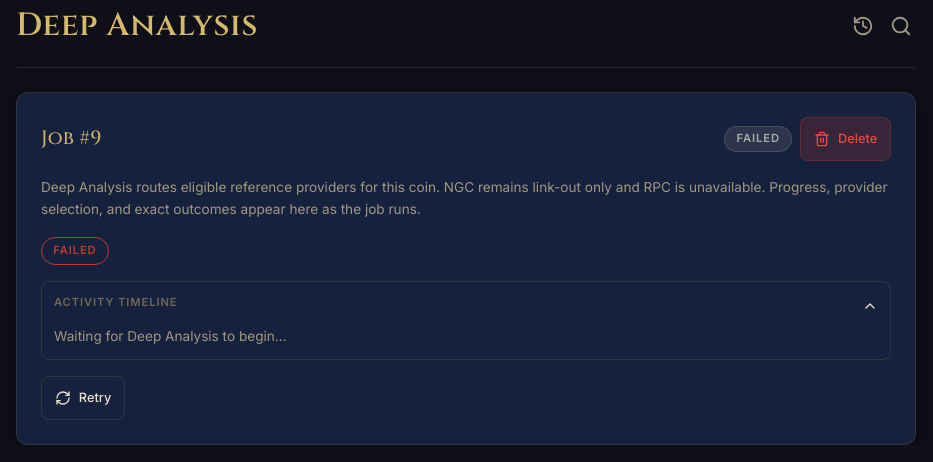
DeepAnalysisPage › surfaces an accessible error and does not navigate when retry fails
The width and height of the screenshot is (933, 462).
Click the button with aria-label "Retry Deep Analysis" at {"x": 83, "y": 398}, box [41,376,125,420]
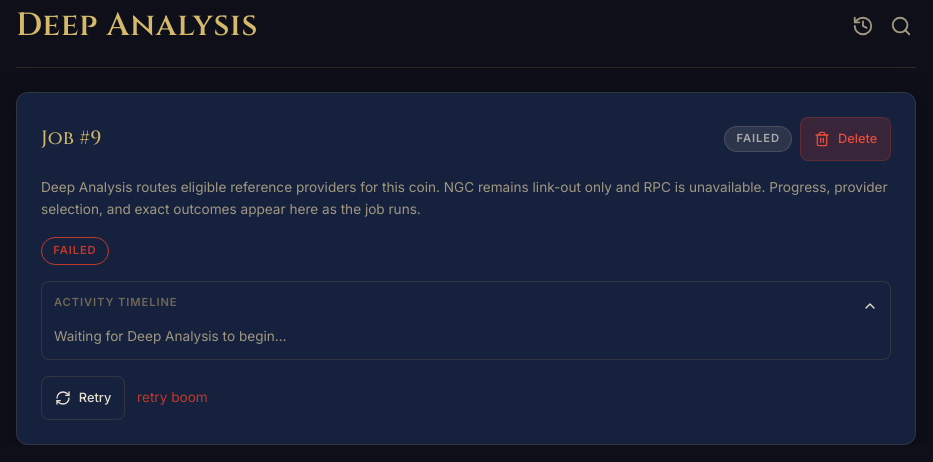
Result: the text "retry boom" is shown at [137,388,208,409]
